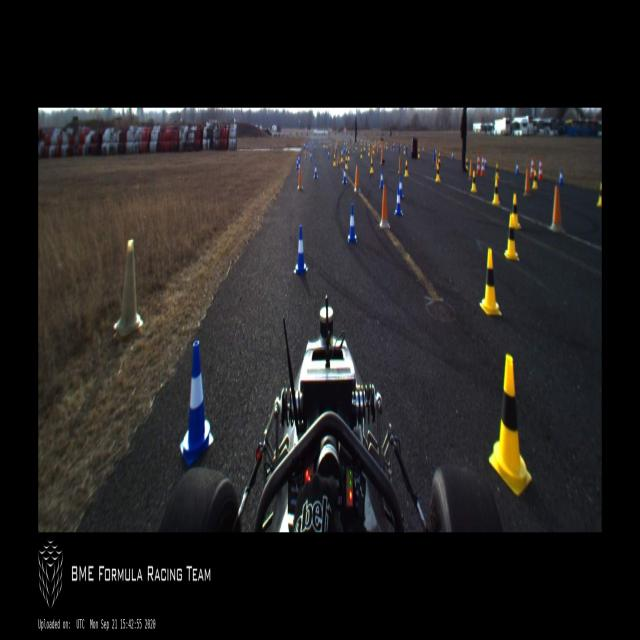blue_cone: (180, 340, 214, 466), (294, 223, 308, 275), (347, 203, 358, 243), (394, 185, 402, 217), (398, 175, 404, 200), (379, 168, 384, 190), (342, 166, 347, 185), (314, 160, 318, 178), (559, 169, 563, 186), (515, 160, 519, 175), (484, 154, 488, 168), (309, 150, 313, 162), (451, 150, 454, 161), (327, 149, 330, 159), (296, 156, 298, 169), (422, 145, 424, 154), (345, 146, 347, 155), (314, 143, 316, 151), (343, 146, 345, 152)
large_orange_cone: (538, 157, 543, 180), (481, 155, 486, 177), (530, 157, 535, 178), (476, 154, 481, 175)
yellow_cone: (489, 355, 532, 497), (479, 248, 502, 315), (504, 216, 518, 262), (510, 192, 520, 232), (492, 179, 501, 203), (470, 171, 478, 195), (532, 166, 538, 189), (435, 163, 441, 185), (494, 162, 500, 183), (597, 182, 601, 206), (465, 152, 470, 171), (404, 160, 409, 177), (370, 158, 374, 174), (344, 157, 348, 169), (438, 150, 441, 164), (333, 155, 336, 168), (417, 147, 420, 158), (403, 145, 406, 156), (360, 148, 363, 158), (341, 152, 344, 162), (348, 148, 350, 161), (363, 142, 365, 152), (368, 147, 370, 157), (372, 144, 374, 154), (355, 142, 357, 150)
